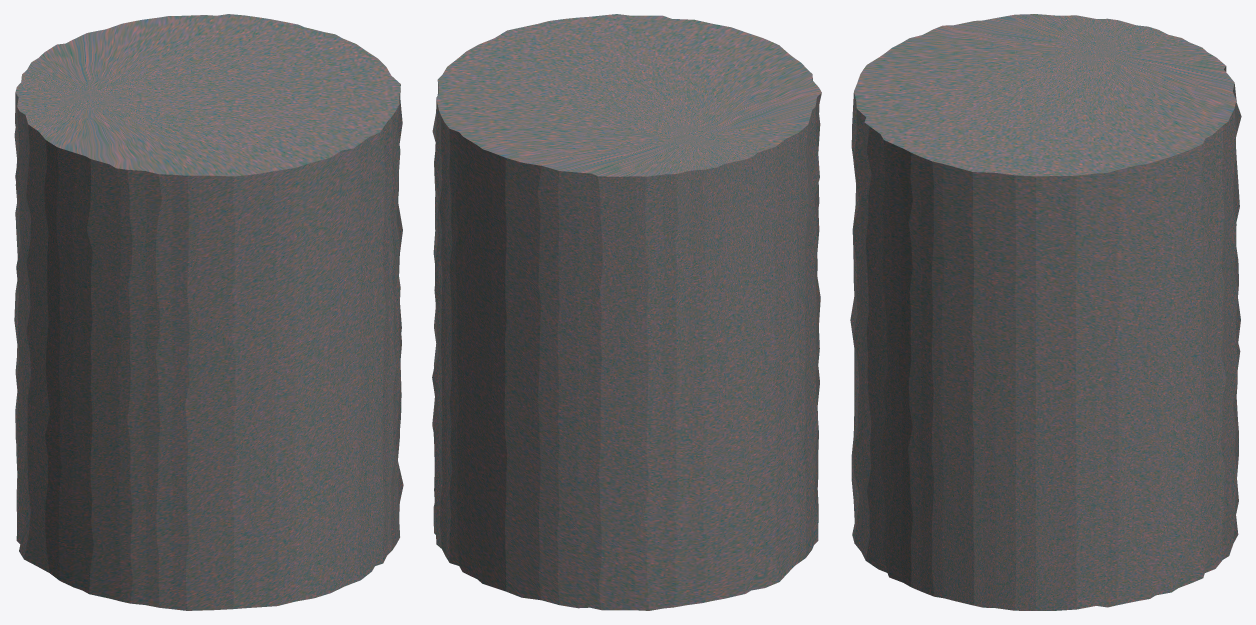
The model's file is barrel_11.dae.
3 views of the same model, side by side, from view 1: azimuth 30°, elevation 25°; view 2: azimuth 150°, elevation 25°; view 3: azimuth 270°, elevation 25° (orthographic).
Parts seen in each view (by area): view 1: Cylinder; view 2: Cylinder; view 3: Cylinder.
Boxes of the visible parts, left/top/right/bottom form: Cylinder: left=14, top=14, right=403, bottom=610; Cylinder: left=432, top=14, right=821, bottom=610; Cylinder: left=850, top=14, right=1241, bottom=610.
Size of the model in its own units: 0.8204 by 0.8161 by 1.
1 material, 1 textured.
